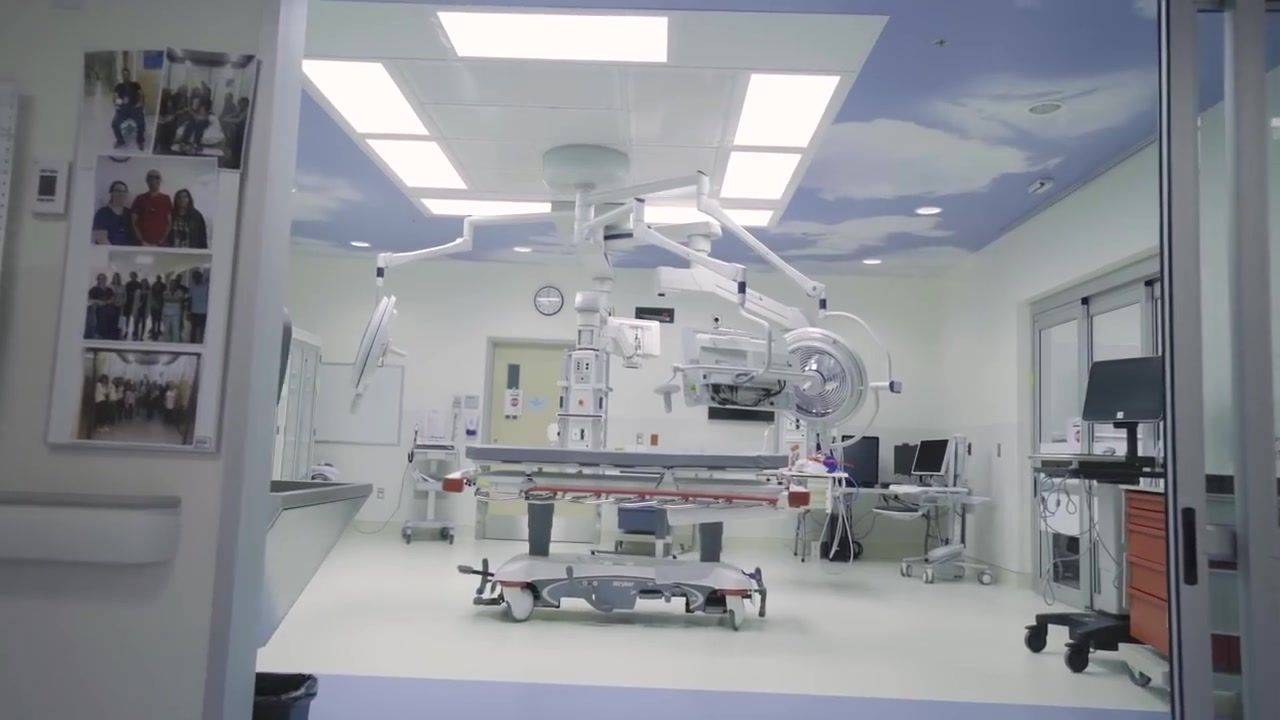bedside_monitor: (833, 435, 878, 486)
cabinet: (273, 327, 324, 480)
computer: (1080, 354, 1166, 423), (910, 437, 953, 477), (894, 444, 917, 475)
dispenser: (466, 415, 480, 440)
keyboard: (874, 505, 918, 513)
medical_drawer: (1117, 482, 1187, 693)
mouse: (1099, 445, 1115, 455), (915, 482, 933, 487)
operating_bed: (441, 442, 849, 632)
sink: (252, 480, 373, 650)
surgical_light: (768, 326, 869, 433), (345, 295, 408, 415)
utility_cart: (411, 443, 458, 545)
waste_bin: (252, 670, 318, 720)
